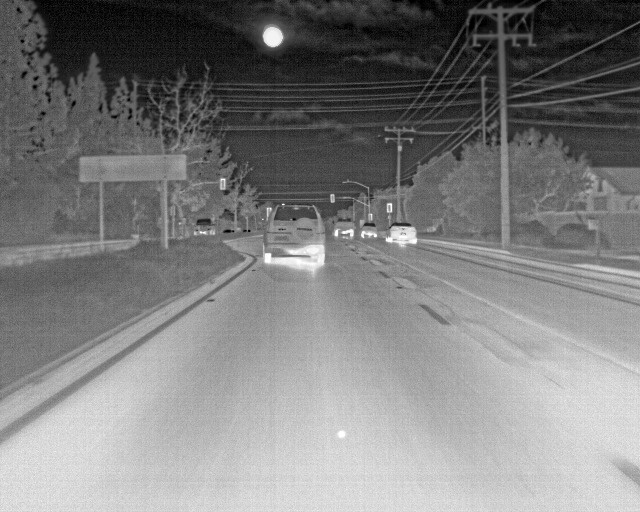vehicle: (262, 200, 329, 274), (389, 224, 418, 245), (363, 222, 379, 238)
